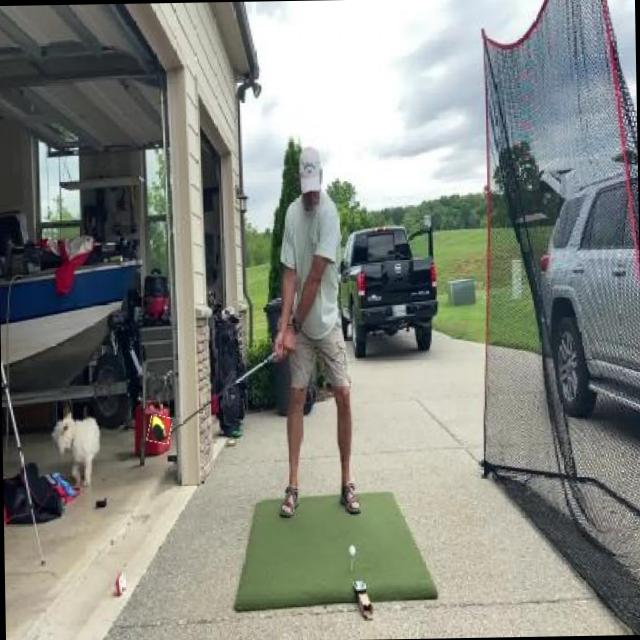club head: (148, 415, 172, 443)
